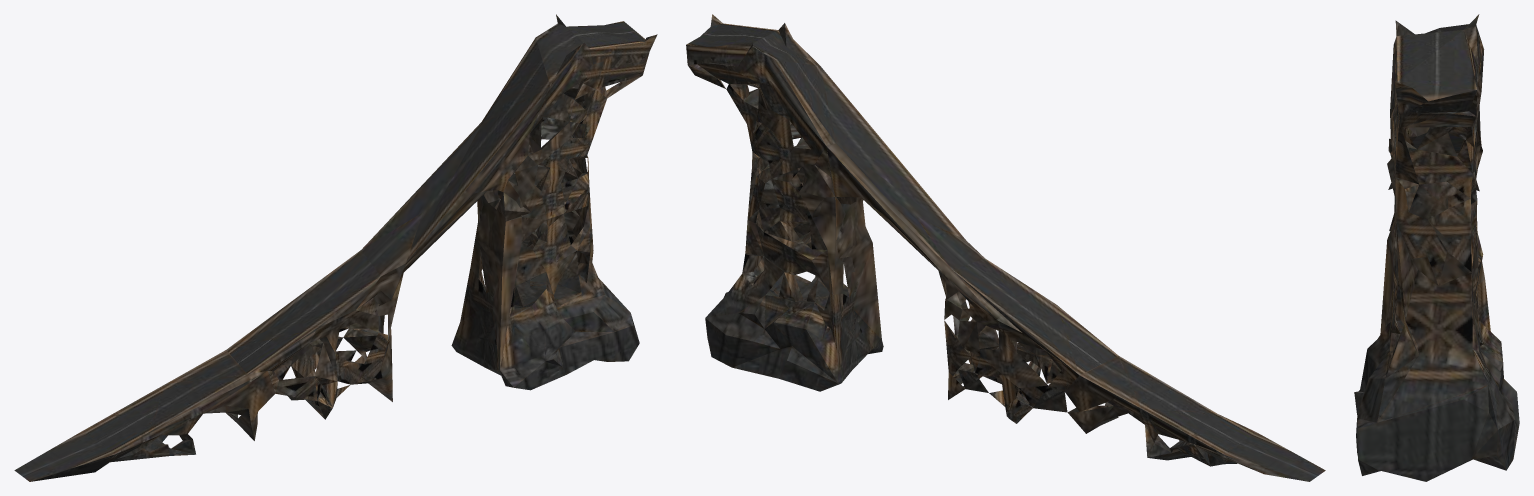
The model's file is stunt-launch-ramp.lod.glb.
3 views of the same model, side by side, from view 1: azimuth 30°, elevation 25°; view 2: azimuth 150°, elevation 25°; view 3: azimuth 270°, elevation 25° (orthographic). The views are drawn at different scales.
Visible parts, largest first — view 1: output_unwrapped; view 2: output_unwrapped; view 3: output_unwrapped.
Part boxes in pixels (bbox=[...]): output_unwrapped: bbox=[14, 14, 657, 481]; output_unwrapped: bbox=[686, 14, 1325, 481]; output_unwrapped: bbox=[1354, 14, 1519, 481].
Size of the model in its own units: 1.77 by 0.8897 by 0.2979.
1 material, 1 textured.
